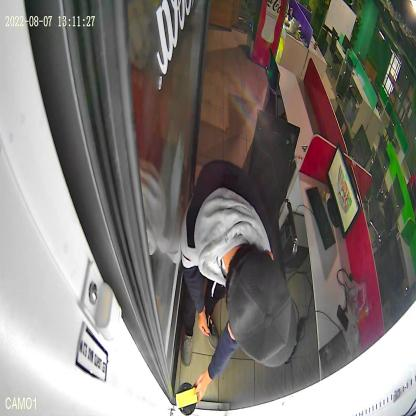yellow: (176, 382, 198, 416)
